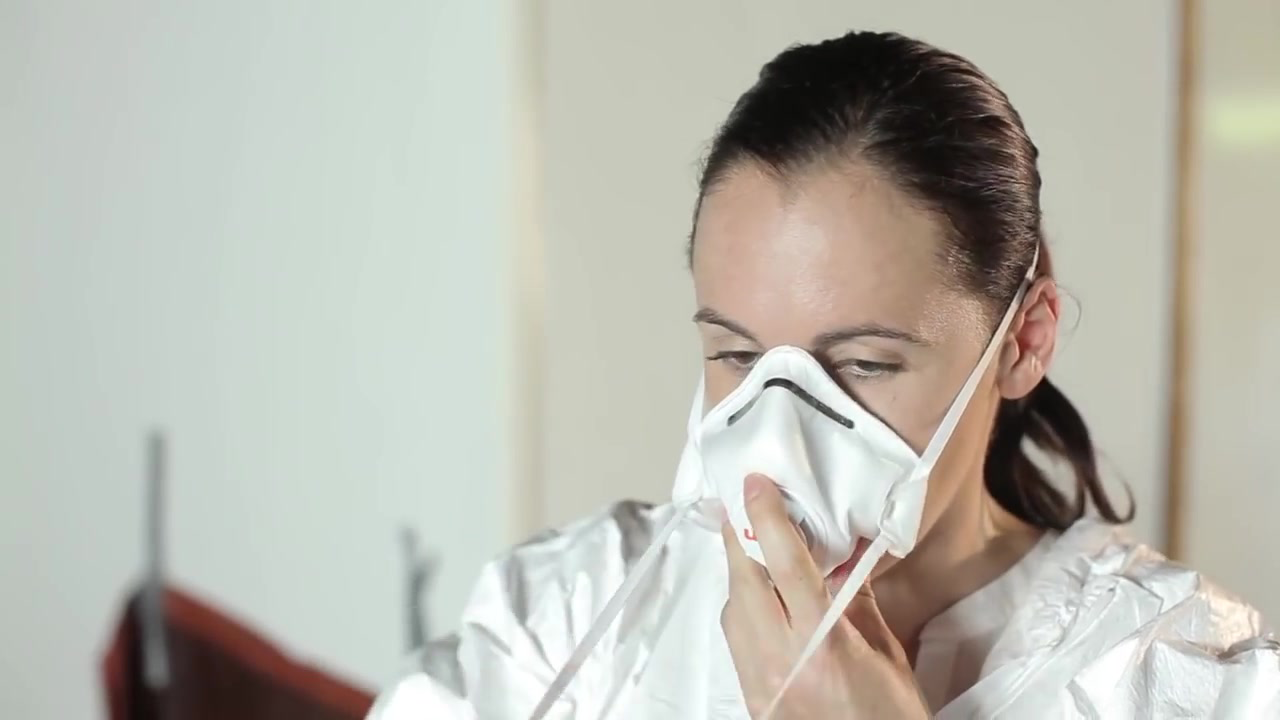with_mask: (642, 314, 931, 583)
